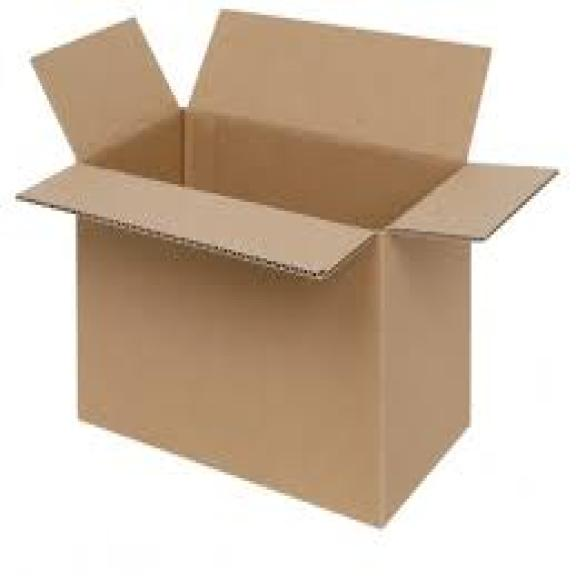Kertas: (20, 12, 552, 523)
